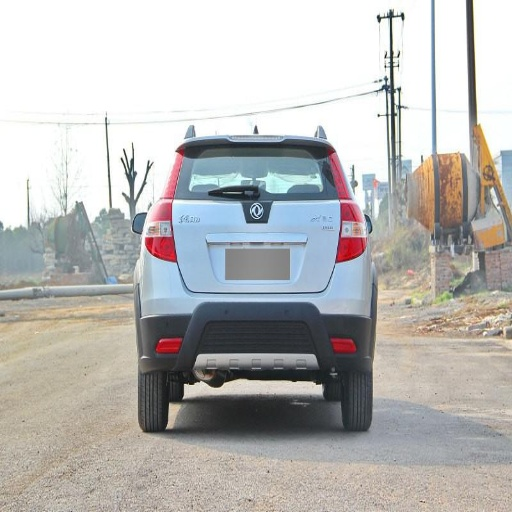back_bumper: (133, 250, 372, 378)
tailgate: (173, 197, 324, 288)
trunk: (191, 199, 342, 289)
